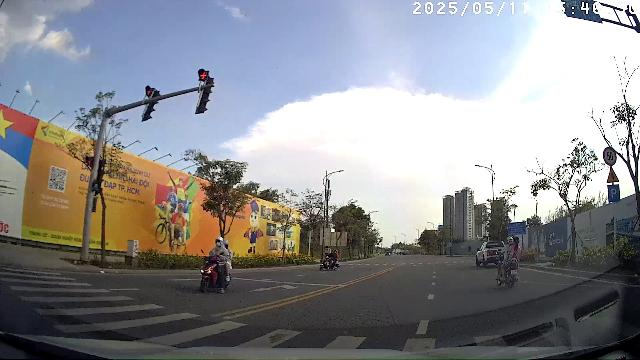127-toc-do-toi-da-50: (602, 147, 617, 166)
